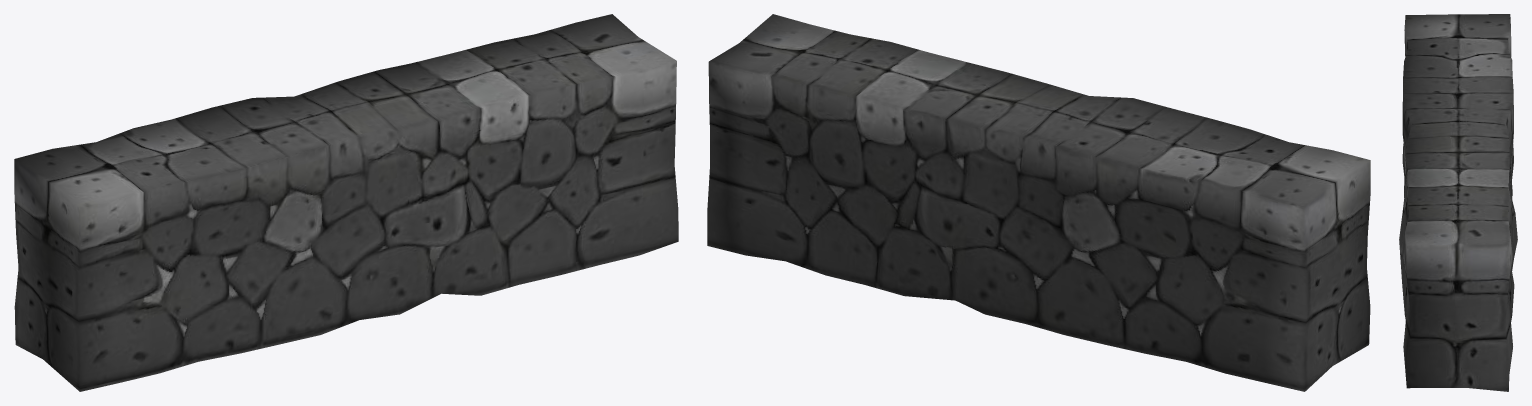
Rendered from wall-near.glb.
The picture shows the model from 3 angles, left to right: view 1: azimuth 30°, elevation 25°; view 2: azimuth 150°, elevation 25°; view 3: azimuth 270°, elevation 25°; orthographic projection. The views are drawn at different scales.
Parts seen in each view (by area): view 1: wall_near; view 2: wall_near; view 3: wall_near.
Part boxes in pixels (x1=…): wall_near: x1=14, y1=14, x2=678, y2=391; wall_near: x1=707, y1=14, x2=1370, y2=391; wall_near: x1=1399, y1=14, x2=1517, y2=391.
Bounding box in the file's own units: 0.9726 × 0.2881 × 0.2078.
1 material, 1 textured.
